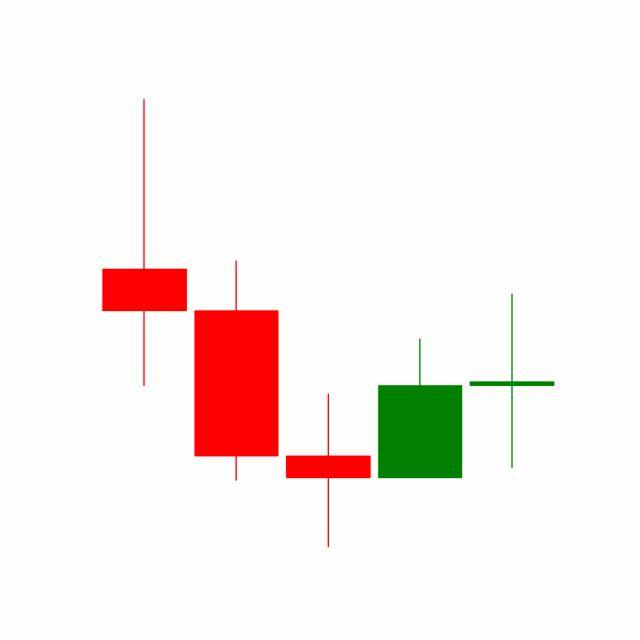Spinning Top: (466, 293, 559, 472)
